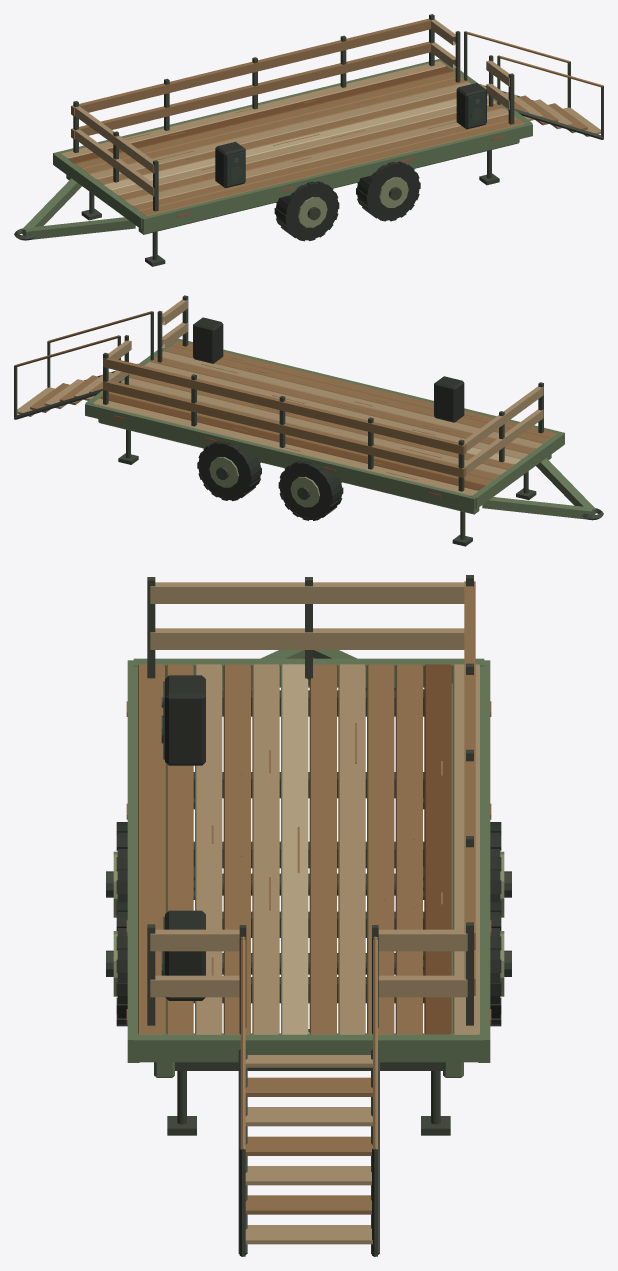
Rendered from lwf_trailer_stage_v3.glb.
3 views of the same model, one above another, from view 1: azimuth 30°, elevation 25°; view 2: azimuth 150°, elevation 25°; view 3: azimuth 270°, elevation 25° (orthographic). The views are drawn at different scales.
Visible parts, largest first — view 1: LWF_TrailerStage_Base, LWF_TrailerStage_Rails, LWF_TrailerStage_BandStairs, LWF_TrailerStage_Fittings; view 2: LWF_TrailerStage_Base, LWF_TrailerStage_Rails, LWF_TrailerStage_BandStairs, LWF_TrailerStage_Fittings; view 3: LWF_TrailerStage_Base, LWF_TrailerStage_Rails, LWF_TrailerStage_BandStairs, LWF_TrailerStage_Fittings.
Part boxes in pixels (x1,y1,x2,y2): LWF_TrailerStage_Base: (14,59,532,266); LWF_TrailerStage_Rails: (71,14,514,211); LWF_TrailerStage_BandStairs: (455,31,603,139); LWF_TrailerStage_Fittings: (215,83,486,188); LWF_TrailerStage_Base: (85,338,603,546); LWF_TrailerStage_Rails: (103,295,543,491); LWF_TrailerStage_BandStairs: (14,311,162,419); LWF_TrailerStage_Fittings: (193,317,464,422); LWF_TrailerStage_Base: (106,650,511,1135); LWF_TrailerStage_Rails: (147,575,475,1032); LWF_TrailerStage_BandStairs: (238,925,379,1256); LWF_TrailerStage_Fittings: (161,675,205,1000).
Size of the model in its own units: 11.97 by 2.22 by 3.68.
Materials: 1 (1 with a texture image).
